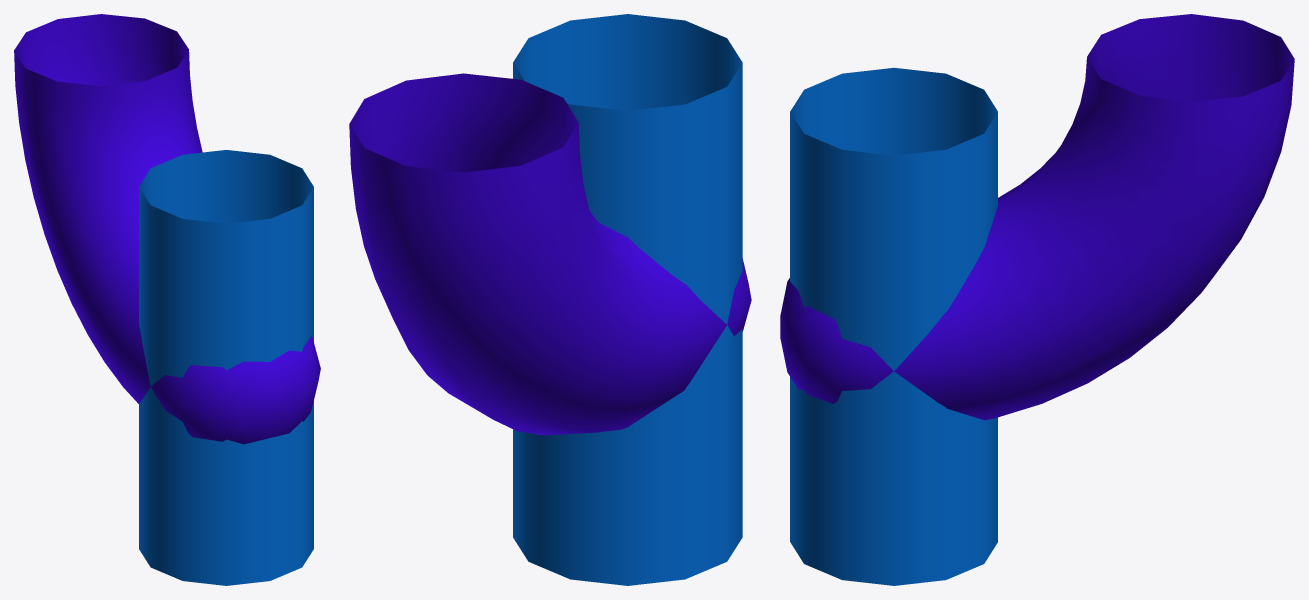
The model's file is PinsWide.fbx.
3 renders of one model, left to right at view 1: azimuth 30°, elevation 25°; view 2: azimuth 150°, elevation 25°; view 3: azimuth 270°, elevation 25°, orthographic. The views are drawn at different scales.
Parts seen in each view (by area): view 1: PinTubeWideMesh, PinRoundWideMesh, PinCapWideMesh; view 2: PinRoundWideMesh, PinTubeWideMesh, PinCapWideMesh; view 3: PinTubeWideMesh, PinRoundWideMesh, PinCapWideMesh.
Part boxes in pixels (<box>): PinTubeWideMesh: <box>139,150,313,585</box>; PinRoundWideMesh: <box>14,14,202,403</box>; PinCapWideMesh: <box>151,336,320,444</box>; PinRoundWideMesh: <box>349,73,726,435</box>; PinTubeWideMesh: <box>513,14,742,585</box>; PinCapWideMesh: <box>727,259,751,336</box>; PinTubeWideMesh: <box>790,67,997,585</box>; PinRoundWideMesh: <box>894,14,1294,420</box>; PinCapWideMesh: <box>780,278,893,403</box>.
Bounding box in the file's own units: 87.61 × 226 × 217.
